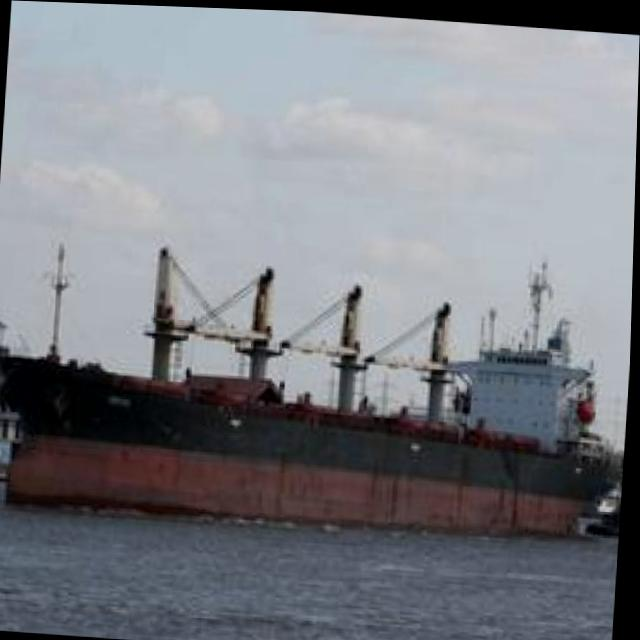ship2: (5, 238, 611, 533)
